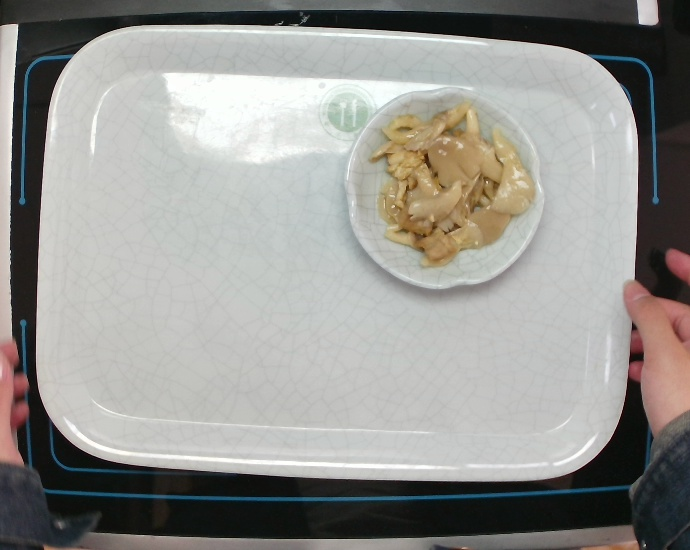JYsf-Ao_Yuan_Wan: (341, 80, 548, 293)
